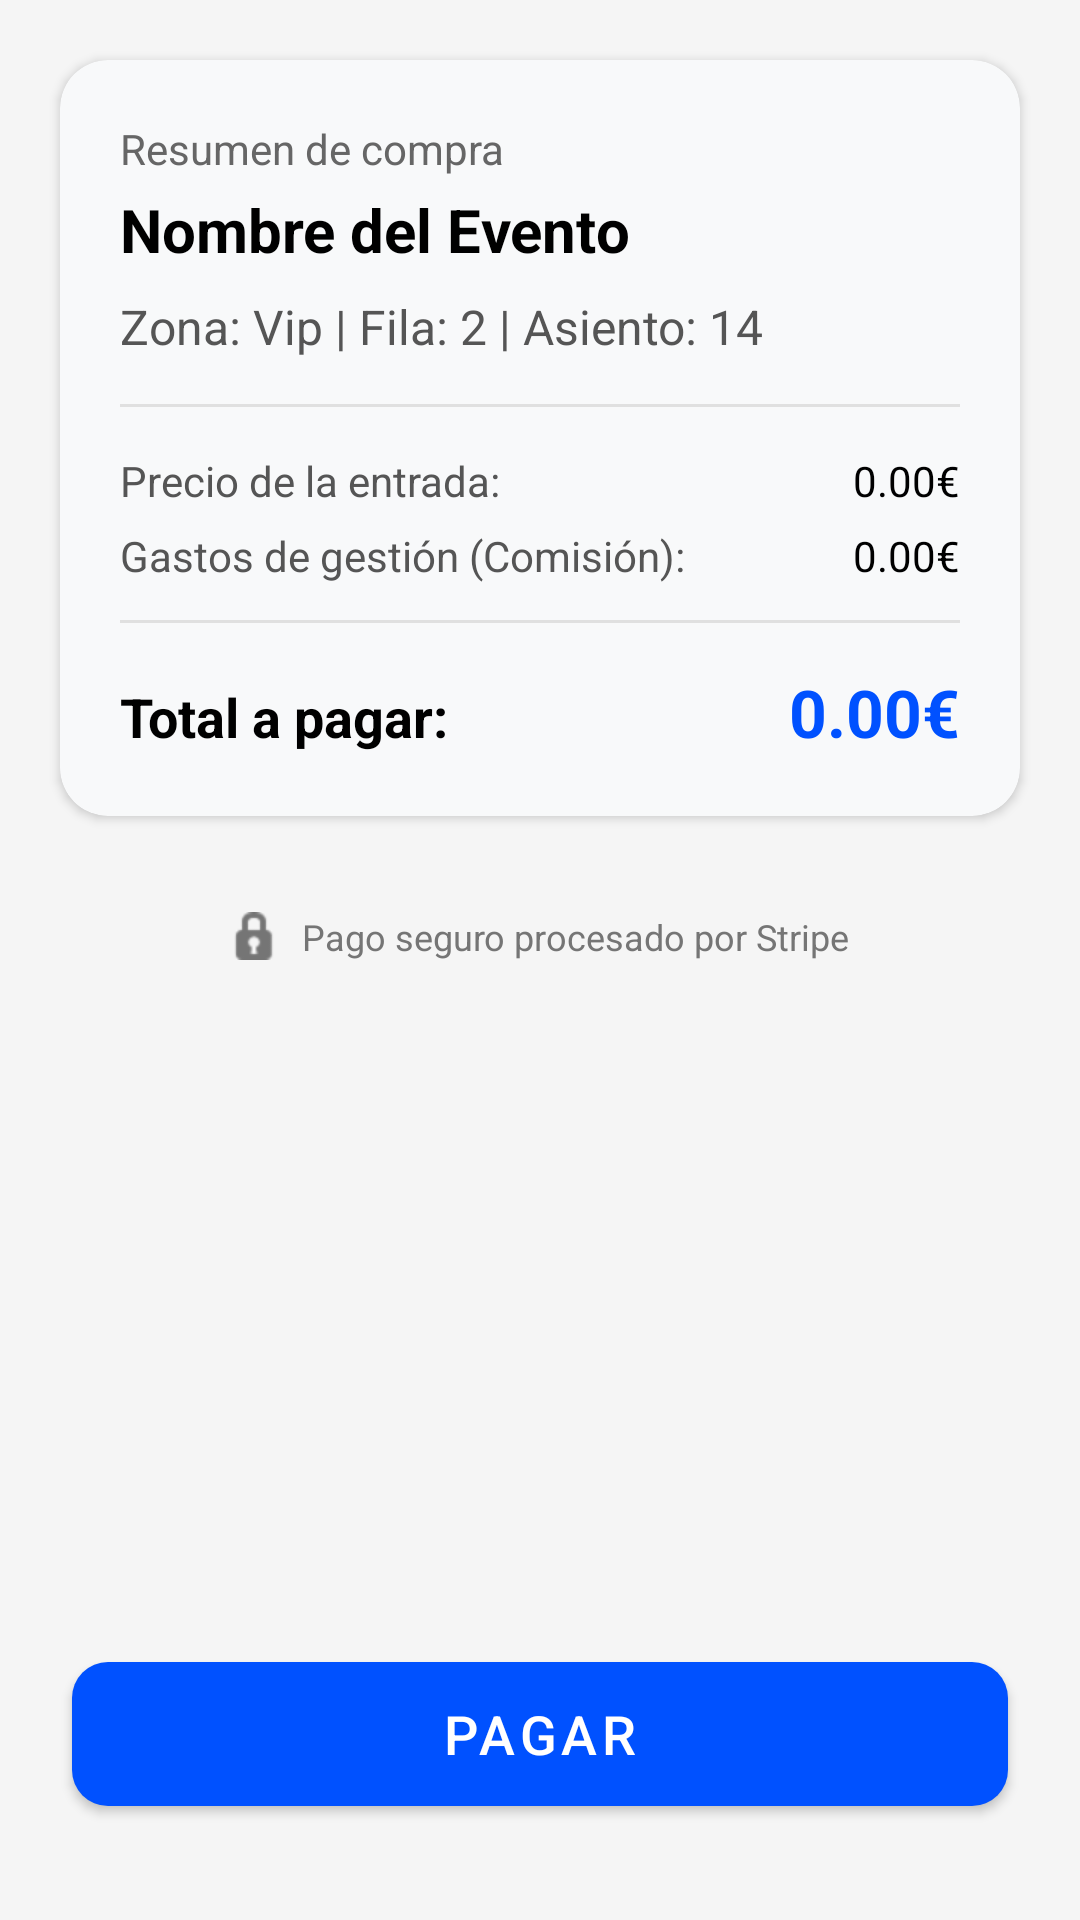

Icon click points for this 1080px x 1920px phone screenshot, format [x,y]:
secure: [253,936]
